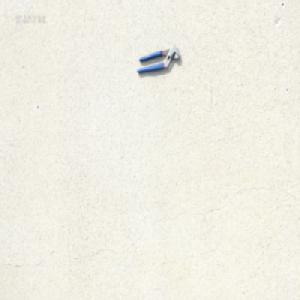Pliers: (135, 44, 179, 74)
